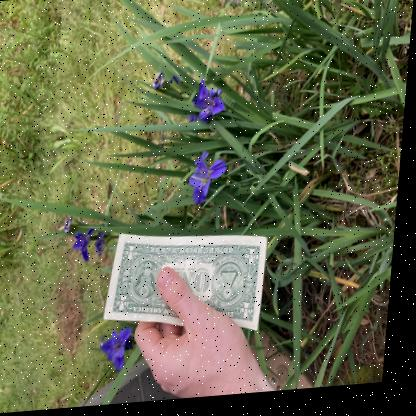one-back: (99, 232, 271, 333)
